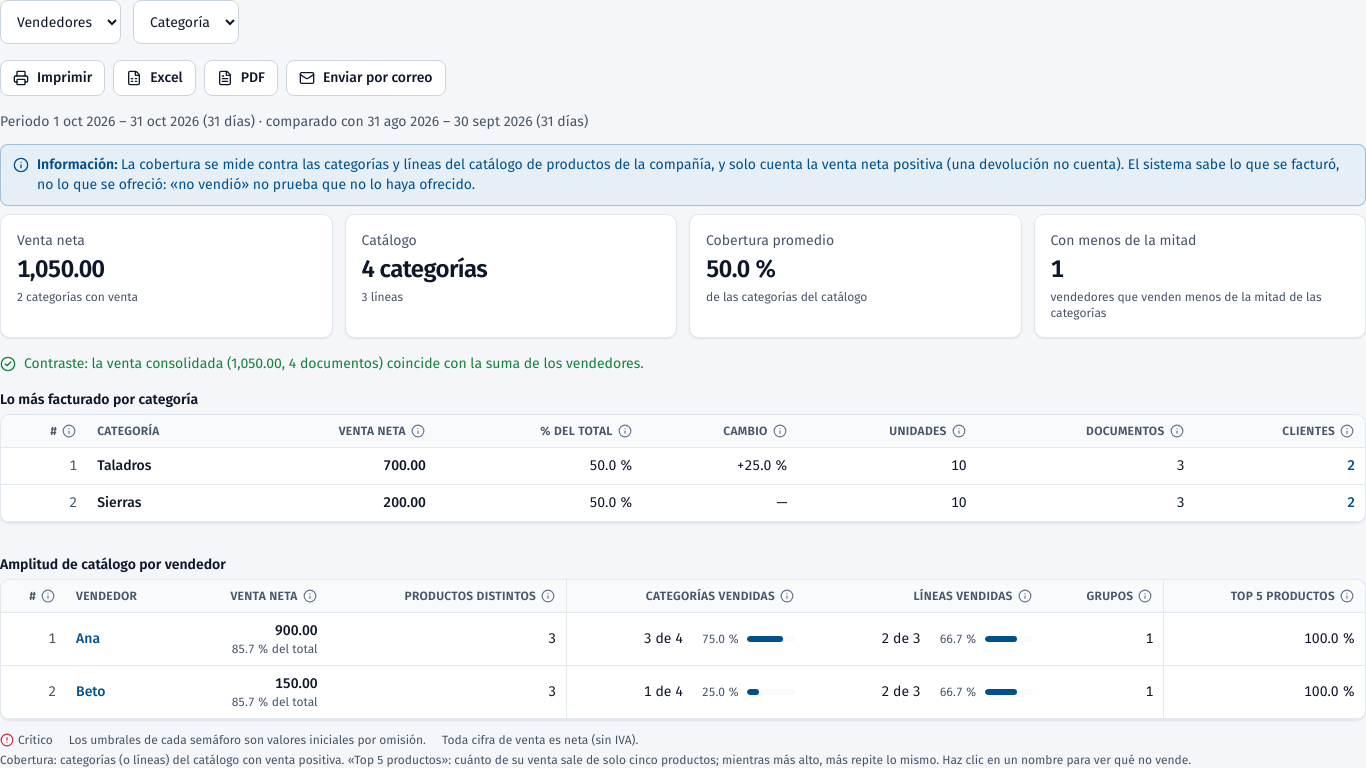
Test: mezcla de productos › en el detalle de una persona, los clientes son solo los suyos y Escape cierra solo la ventana de arriba
(page scrolled)
Click the button with aria-label "Ver el detalle de Beto": (91, 692) [76, 682, 106, 702]
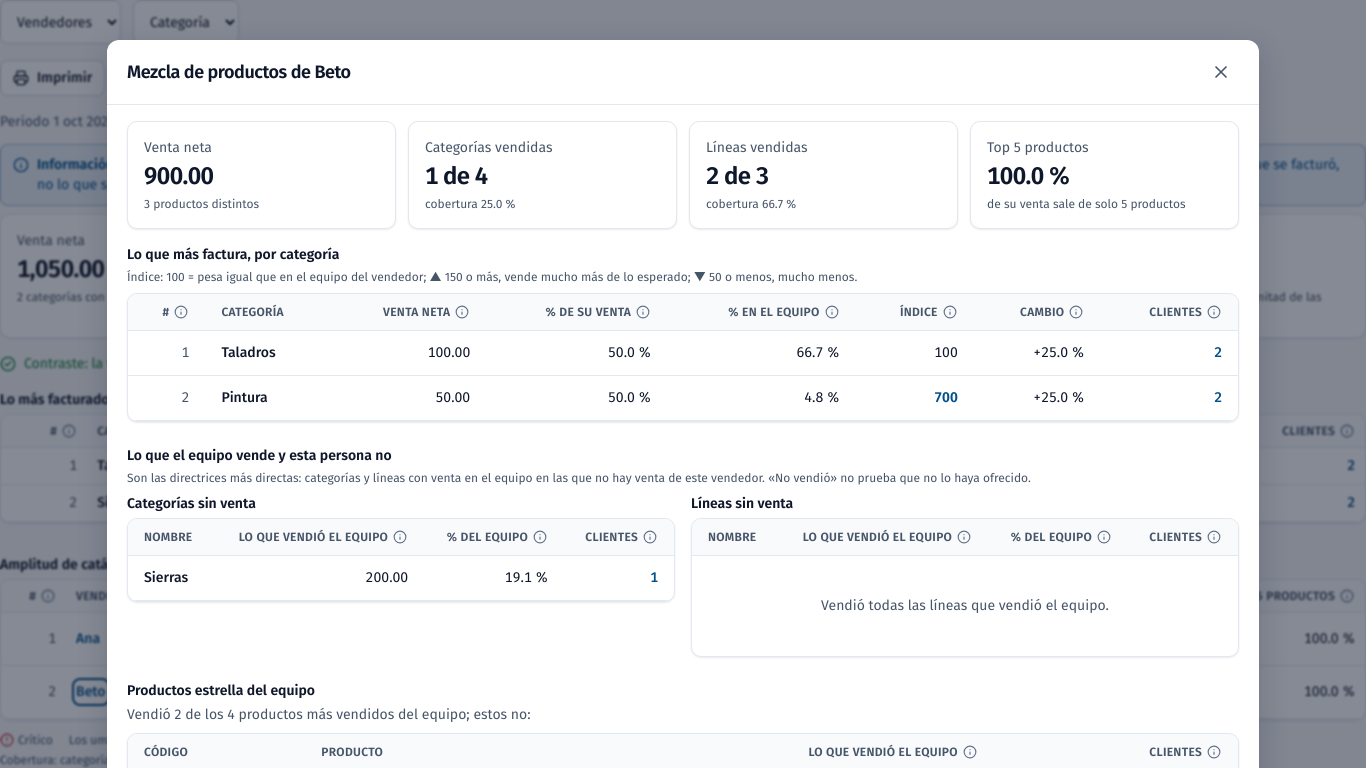
Click the button named "Ver los 2 clientes de Taladros": (1218, 353) [1214, 343, 1222, 363]
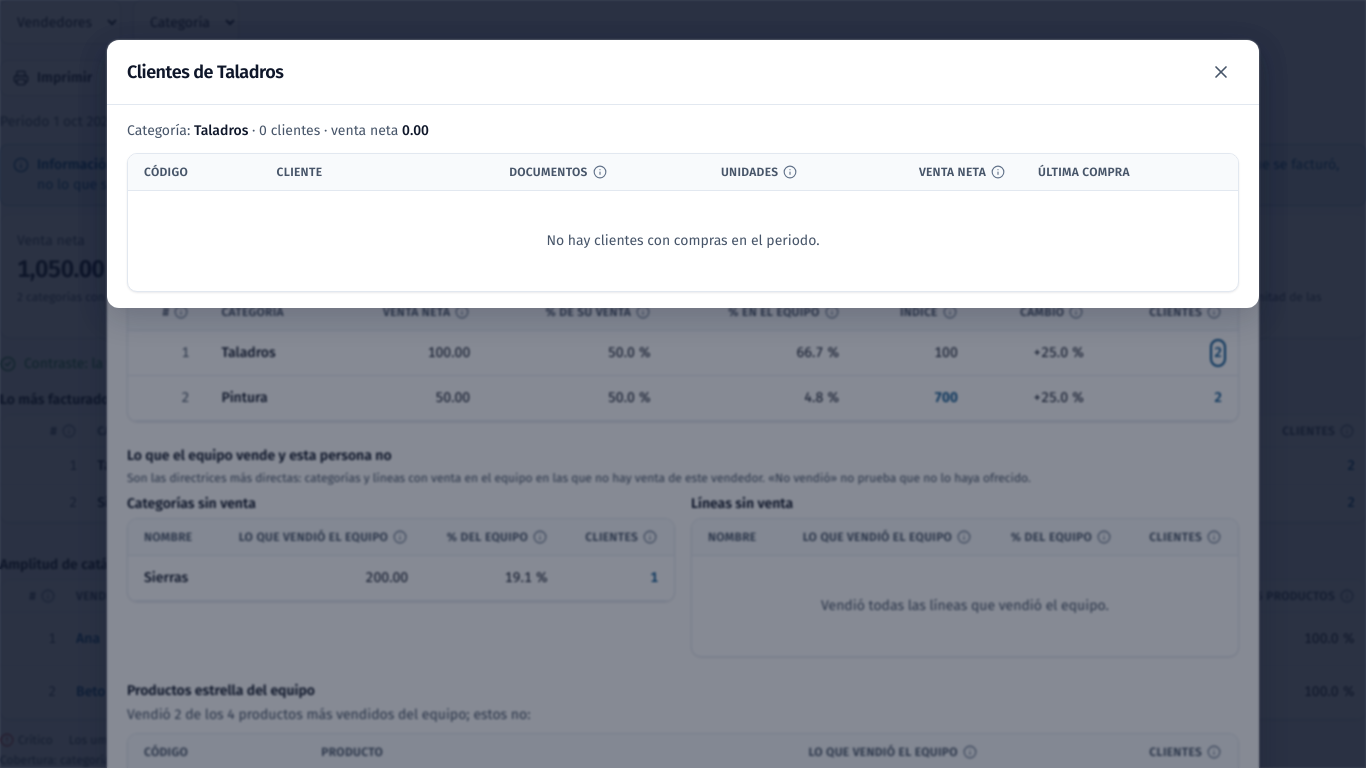
Check: the dialog "Clientes de Taladros" is shown, box [107, 40, 1259, 308]
Press Escape
(page scrolled)
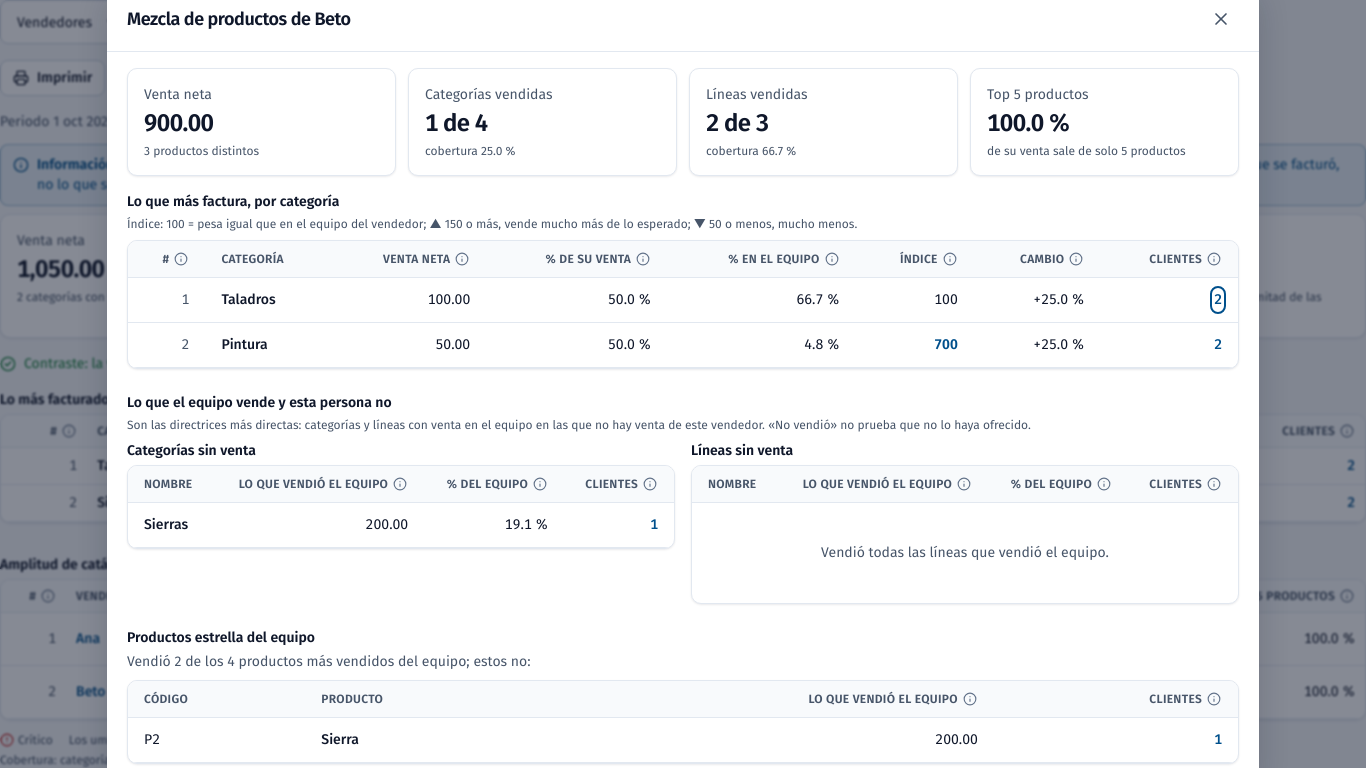
Check: the dialog "Mezcla de productos de Beto" is shown
Check: the heading "Clientes de Taladros" is gone
